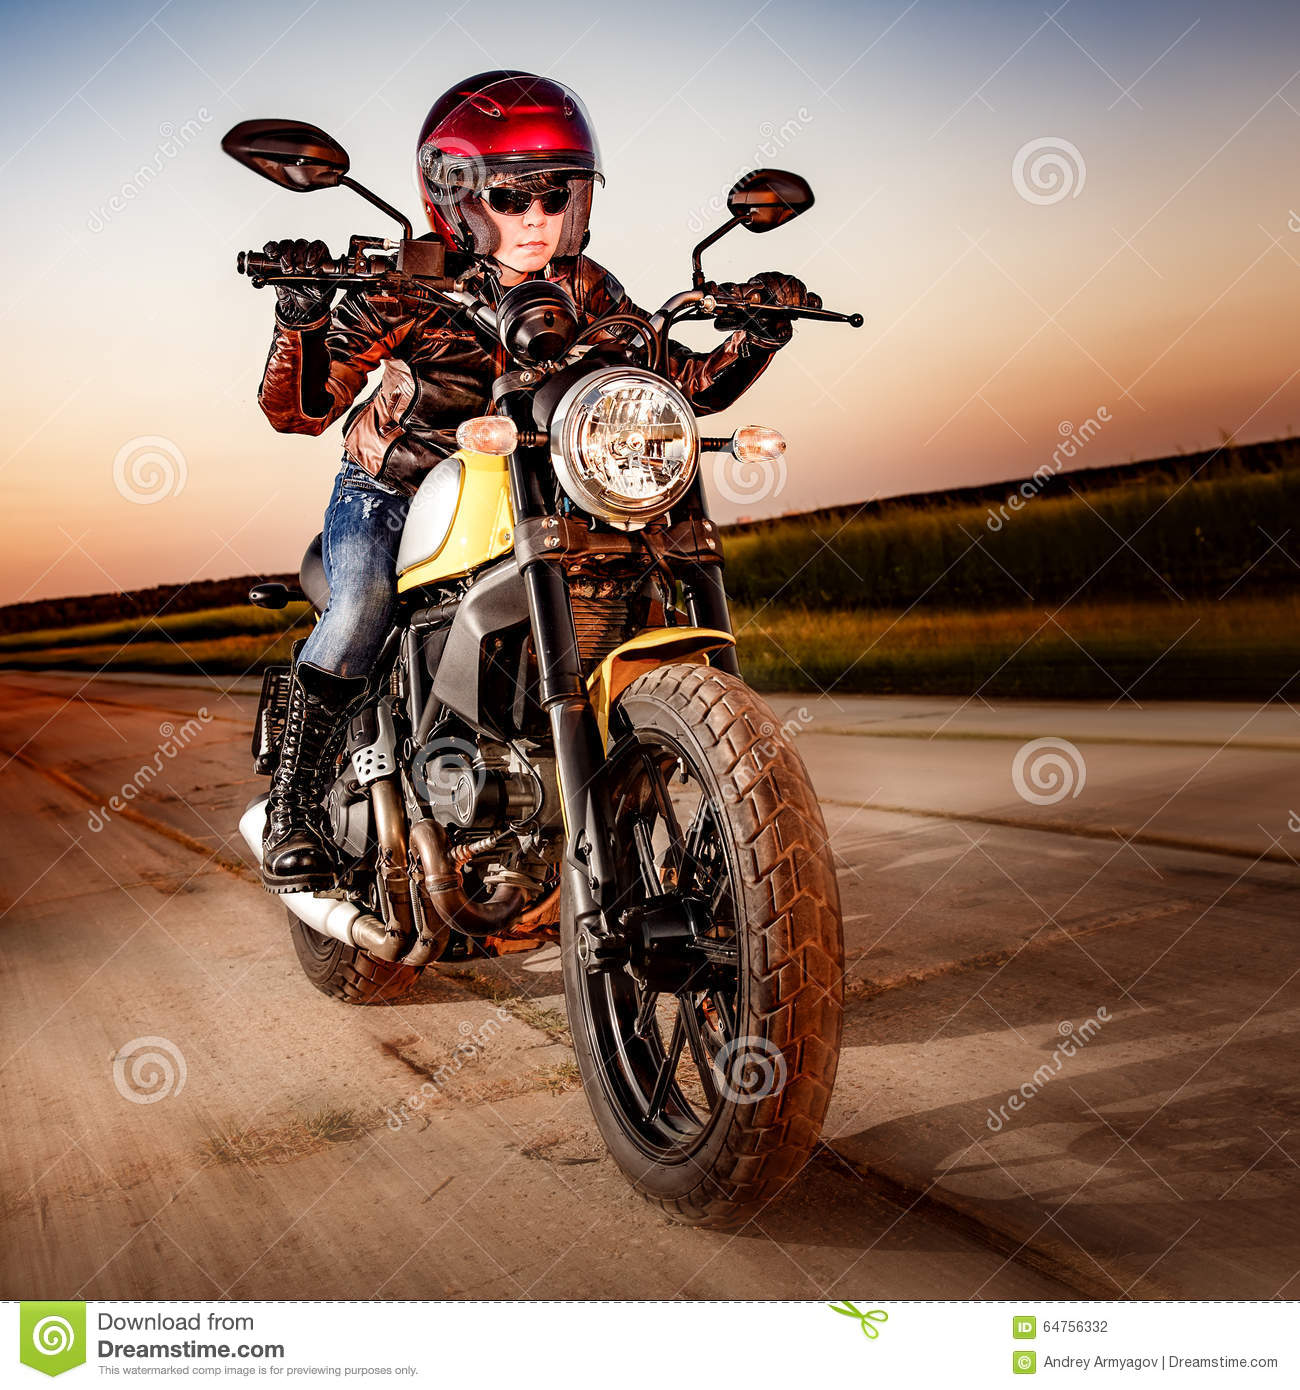helmet: (414, 64, 628, 281)
